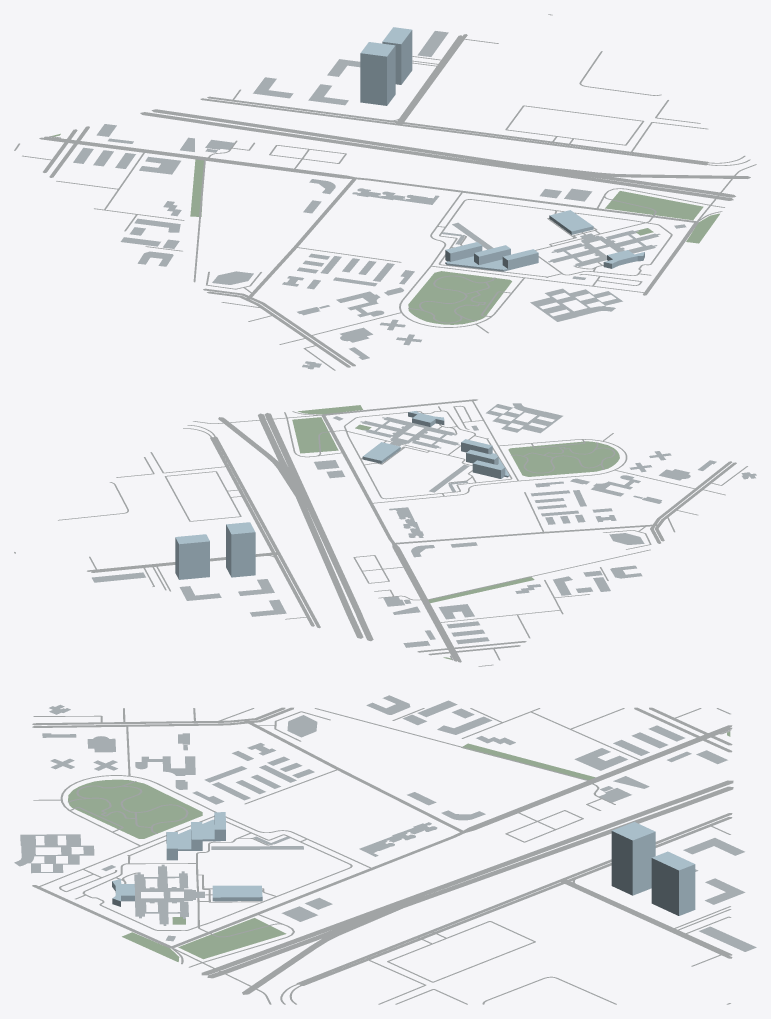
Rendered from -12_4-known-coarse.glb.
The picture shows the model from 3 angles, top to bottom: view 1: azimuth 30°, elevation 25°; view 2: azimuth 150°, elevation 25°; view 3: azimuth 270°, elevation 25°; orthographic projection. The views are drawn at different scales.
Size of the model in its own units: 1046 by 87 by 1061.
